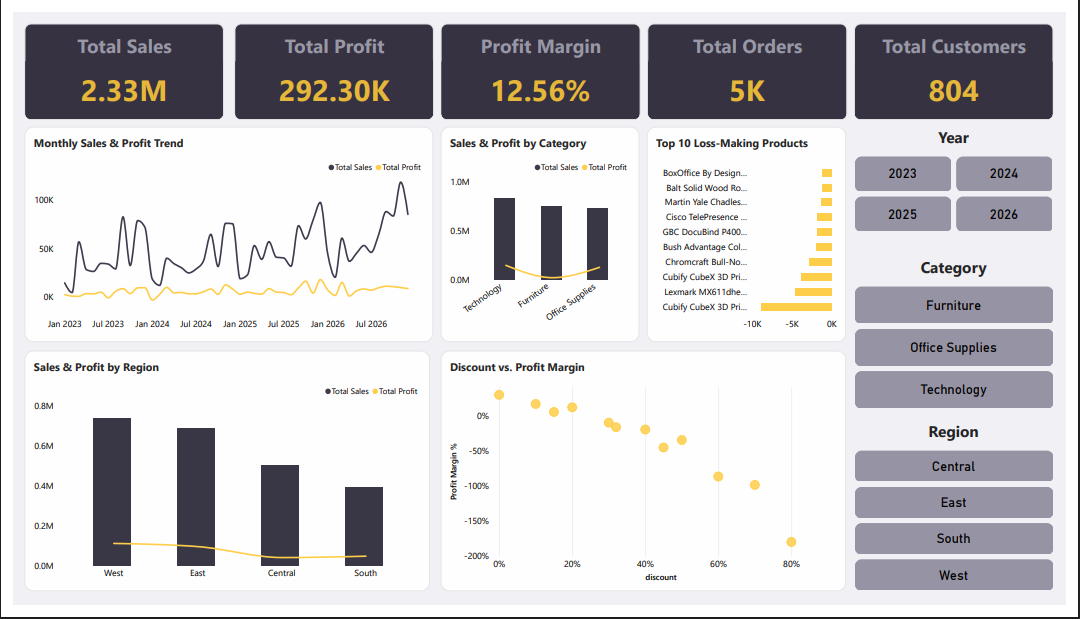

What the dashboard file says about the page in this screenshot:
{"tool":"powerbi","page":{"name":"Executive Overview.","canvas":[1920,1080],"ordinal":0},"visuals":[{"type":"cardVisual","title":"Total Sales","fields":{"Data":["Measure.Total Sales"]},"box":[20.6,20.6,363.4,175.5],"z":0},{"type":"cardVisual","title":"Total Profit","fields":{"Data":["Measure.Total Profit"]},"box":[403.6,20.6,363.4,175.5],"z":1000},{"type":"cardVisual","title":"Profit Margin","fields":{"Data":["Measure.Profit Margin %"]},"box":[780.4,20.6,363.4,175.5],"z":2000},{"type":"cardVisual","title":"Total Orders","fields":{"Data":["Measure.Total Orders"]},"box":[1157.2,20.6,363.4,175.5],"z":3000},{"type":"cardVisual","title":"Total Customers","fields":{"Data":["Measure.Total Customers"]},"box":[1533.9,20.6,363.4,175.5],"z":4000},{"type":"lineChart","title":"Monthly Sales & Profit Trend","fields":{"Category":["superstore_sales.order_date.Variation.Date Hierarchy.Year","superstore_sales.order_date.Variation.Date Hierarchy.Month"],"Y":["Measure.Total Sales","Measure.Total Profit"]},"box":[20.6,208.5,745.3,392.3],"z":5000},{"type":"lineClusteredColumnComboChart","title":"Sales & Profit by Category","fields":{"Category":["superstore_sales.category"],"Y":["Measure.Total Sales"],"Y2":["Measure.Total Profit"]},"box":[780.4,208.5,361.3,392.3],"z":6000},{"type":"lineClusteredColumnComboChart","title":"Sales & Profit by Region","fields":{"Category":["superstore_sales.region"],"Y":["Measure.Total Sales"],"Y2":["Measure.Total Profit"]},"box":[20.6,617.3,739.1,437.7],"z":7000},{"type":"scatterChart","title":"Discount vs. Profit Margin","fields":{"X":["superstore_sales.discount"],"Y":["Measure.Profit Margin %"]},"box":[780.4,617.3,739.1,437.7],"z":8000},{"type":"clusteredBarChart","title":"Top 10 Loss-Making Products","fields":{"Category":["superstore_sales.product_name"],"Y":["Measure.Total Profit"]},"box":[1156.1,208.5,363.4,392.3],"z":9000},{"type":"advancedSlicerVisual","title":"Year","fields":{"Values":["superstore_sales.order_date.Variation.Date Hierarchy.Year"]},"box":[1533.9,208.5,363.4,196.1],"z":10000},{"type":"advancedSlicerVisual","title":"Category","fields":{"Values":["superstore_sales.category"]},"box":[1533.9,445.9,363.4,276.6],"z":11000},{"type":"advancedSlicerVisual","title":"Region","fields":{"Values":["superstore_sales.region"]},"box":[1533.9,745.3,363.4,309.7],"z":12000}]}

Visuals, with their boxes in screenshot pixels (x1, y1, x2, y2), scaled from the page's 1920x1080 canvas onto the 1080x619 screenshot:
"Total Sales" cardVisual: box=[12, 12, 216, 112]
"Total Profit" cardVisual: box=[227, 12, 431, 112]
"Profit Margin" cardVisual: box=[439, 12, 643, 112]
"Total Orders" cardVisual: box=[651, 12, 855, 112]
"Total Customers" cardVisual: box=[863, 12, 1067, 112]
"Monthly Sales & Profit Trend" lineChart: box=[12, 120, 431, 344]
"Sales & Profit by Category" lineClusteredColumnComboChart: box=[439, 120, 642, 344]
"Sales & Profit by Region" lineClusteredColumnComboChart: box=[12, 354, 427, 605]
"Discount vs. Profit Margin" scatterChart: box=[439, 354, 855, 605]
"Top 10 Loss-Making Products" clusteredBarChart: box=[650, 120, 855, 344]
"Year" advancedSlicerVisual: box=[863, 120, 1067, 232]
"Category" advancedSlicerVisual: box=[863, 256, 1067, 414]
"Region" advancedSlicerVisual: box=[863, 427, 1067, 605]
